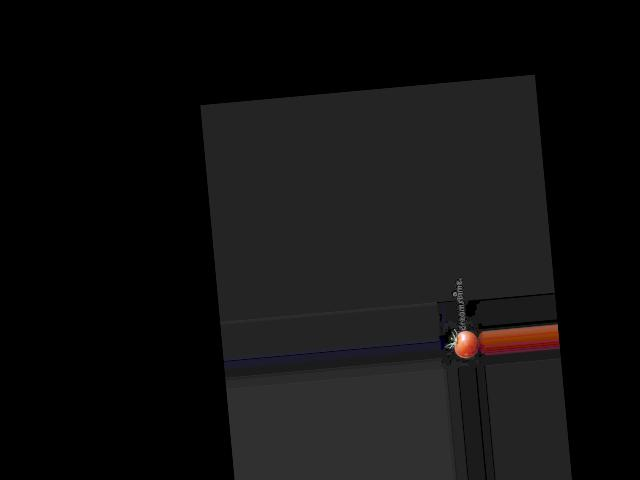tomato: (453, 329, 479, 358)
